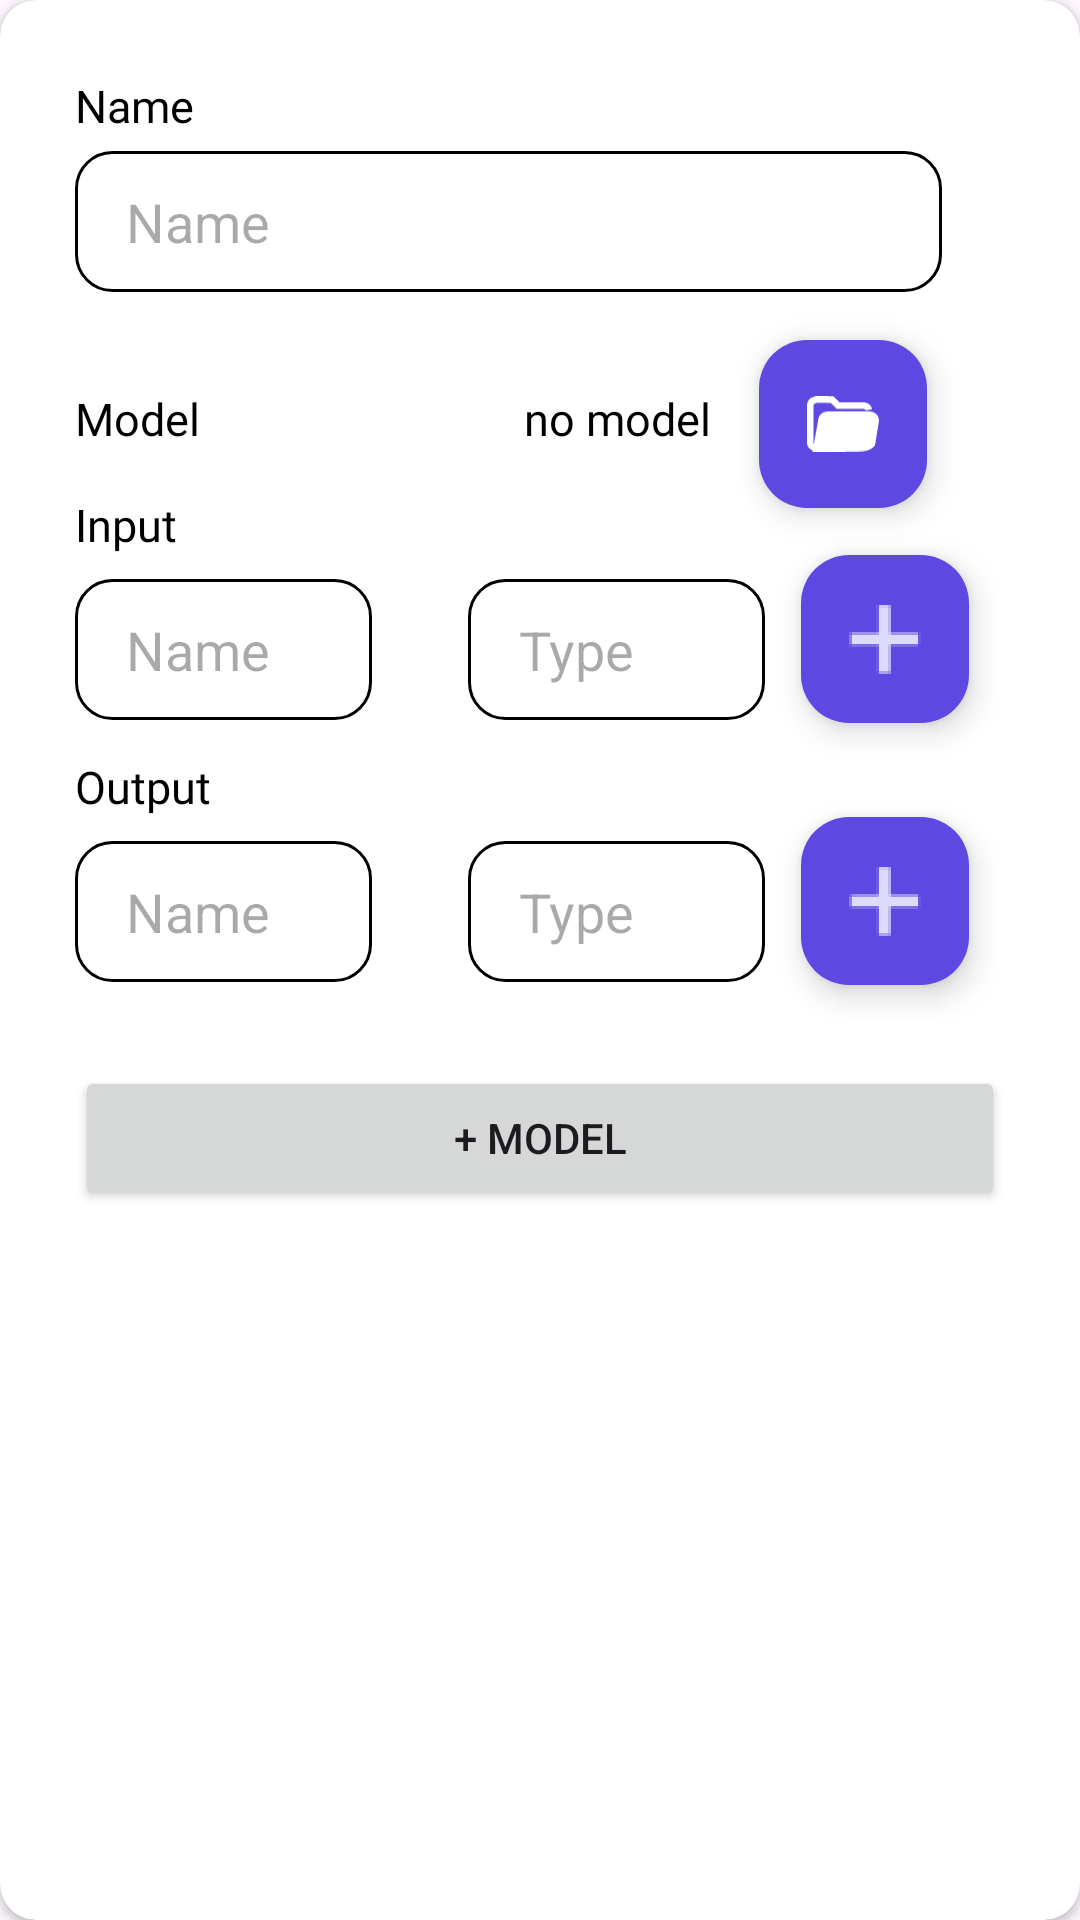

Where icons sit on this 1080*1920 app screen, as region(x1, y1, x2, y2):
file: region(759, 340, 927, 508)
plus: region(801, 555, 969, 723), region(801, 817, 969, 985)
